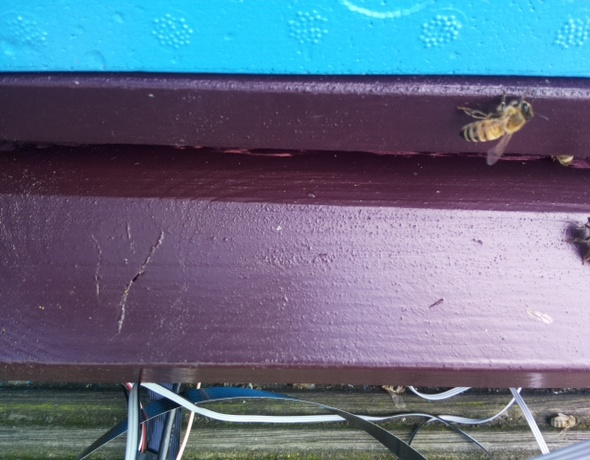no_pollen: (456, 93, 539, 148)
